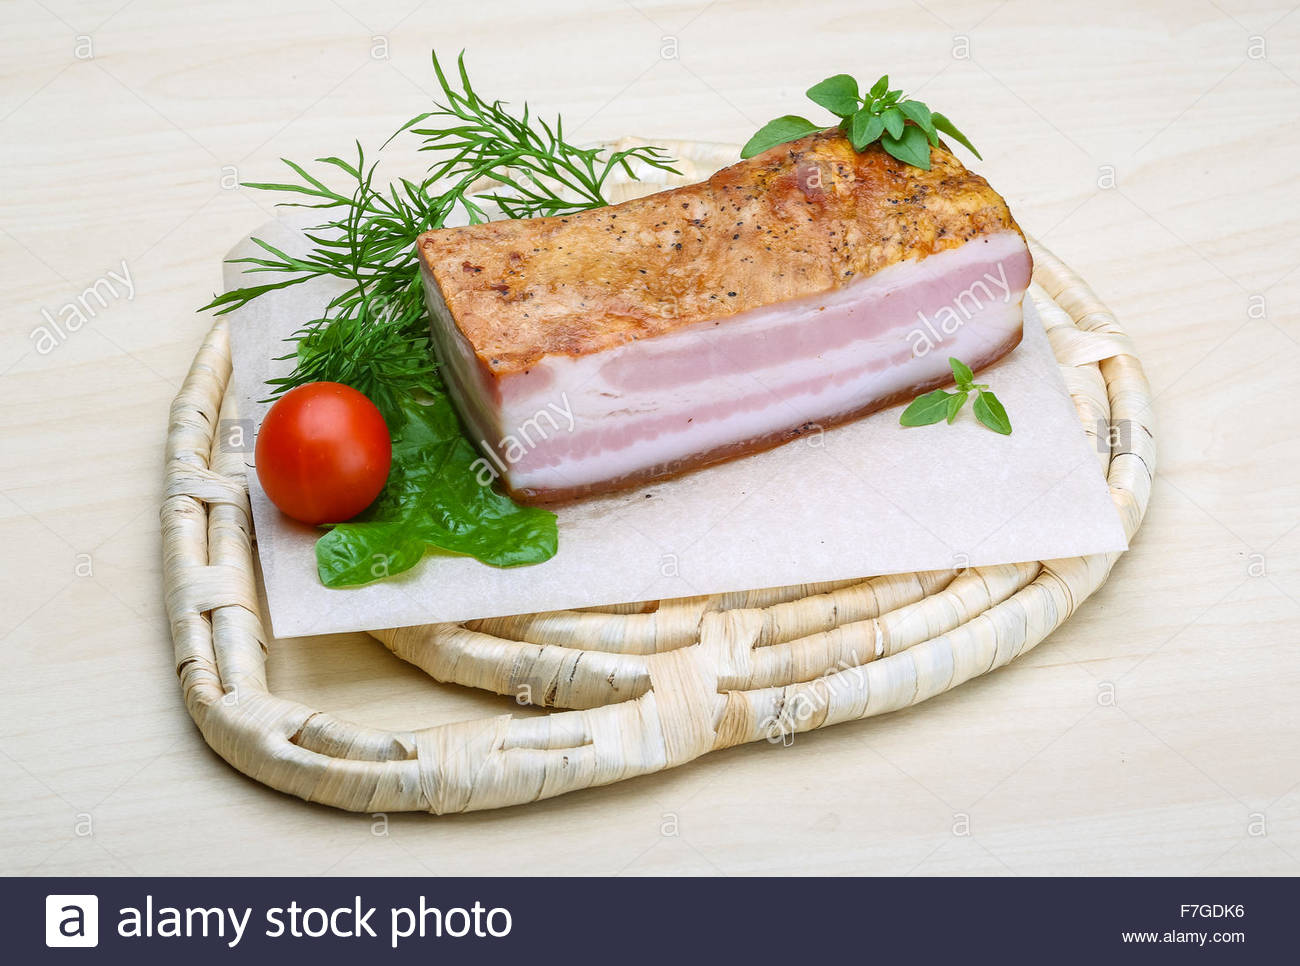bacon: (462, 97, 1050, 503)
